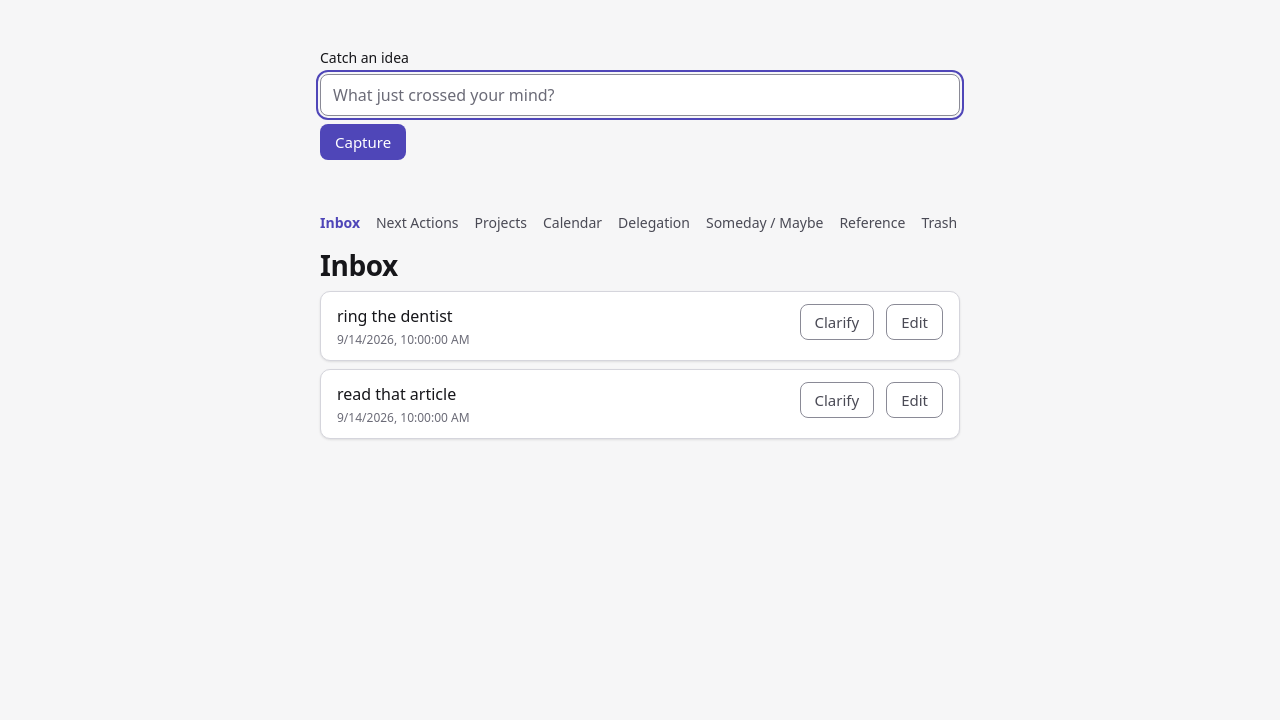
clarifying from the Inbox › removes the item from the list once it has landed in its bucket
The image size is (1280, 720).
Expected: the text "ring the dentist" is shown, x1=337 y1=305 x2=453 y2=327
The SECOND row, so removing by index would take the wrong item.
Click the button "Clarify" in the row of "read that article" at (837,400), box x1=800 y1=382 x2=874 y2=418
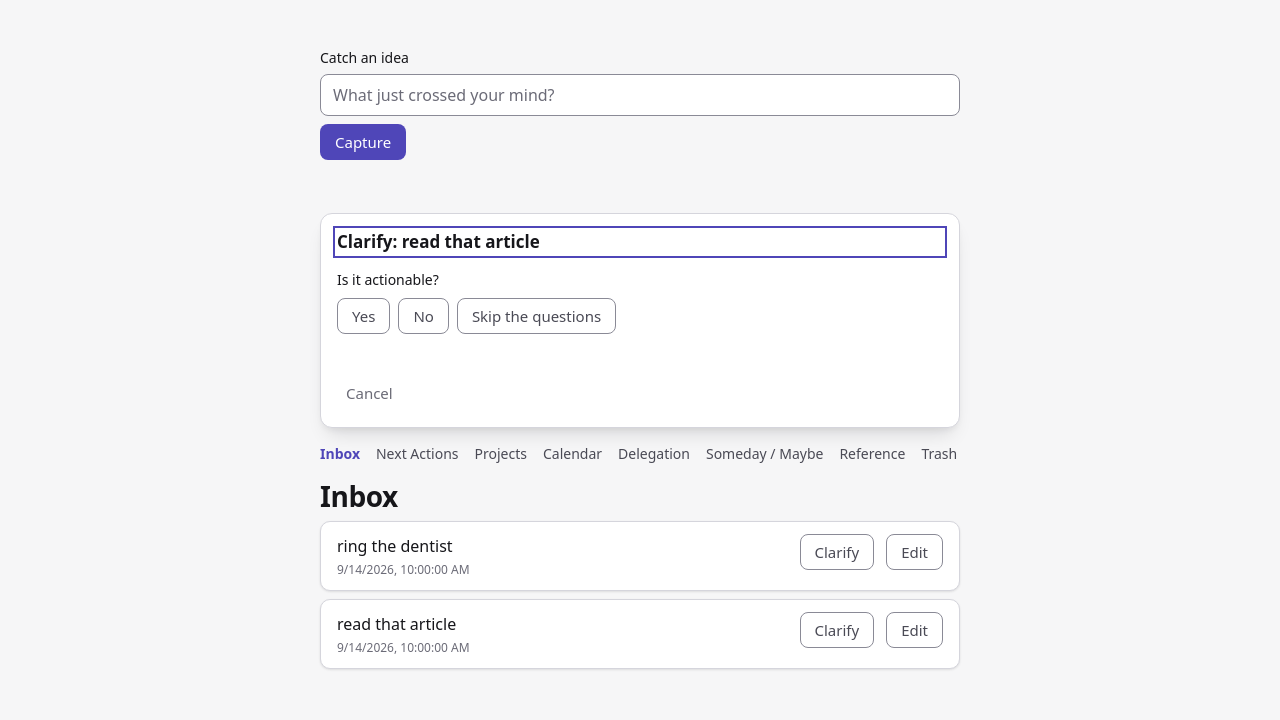
Click the button "Yes" at (364,316), box x1=337 y1=298 x2=390 y2=334
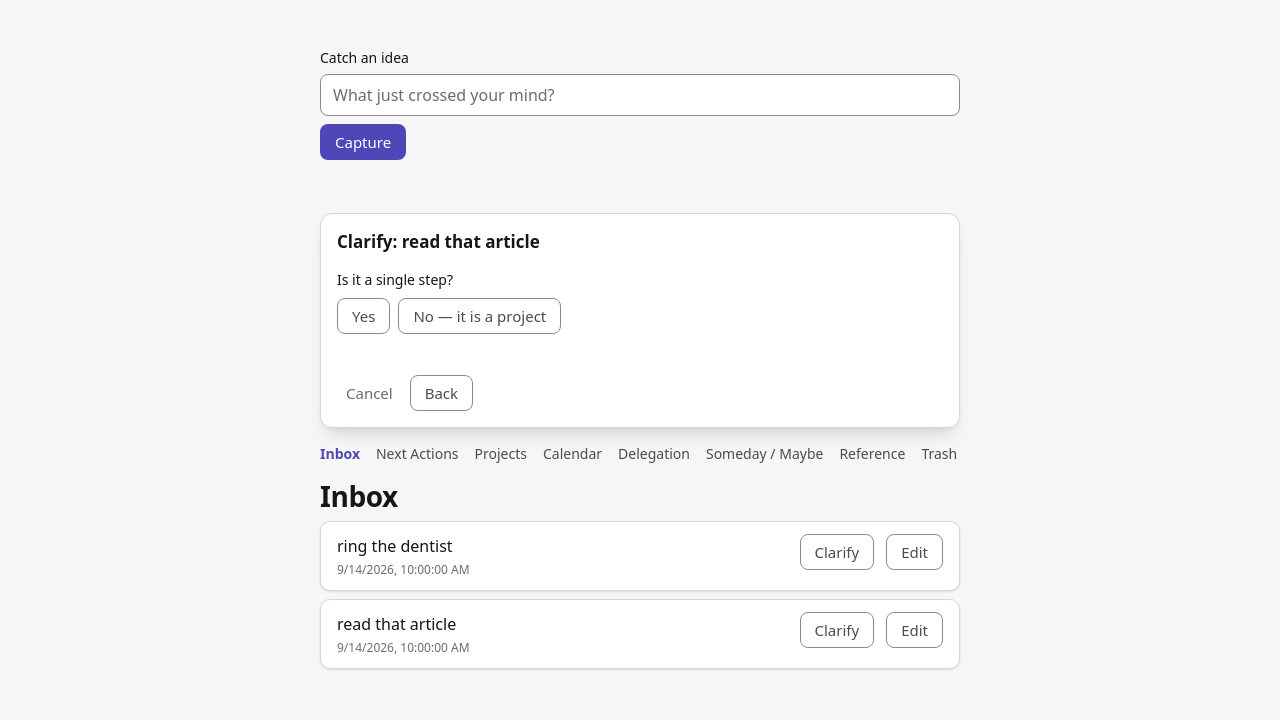
Click the button "Yes" at (364,316), box x1=337 y1=298 x2=390 y2=334
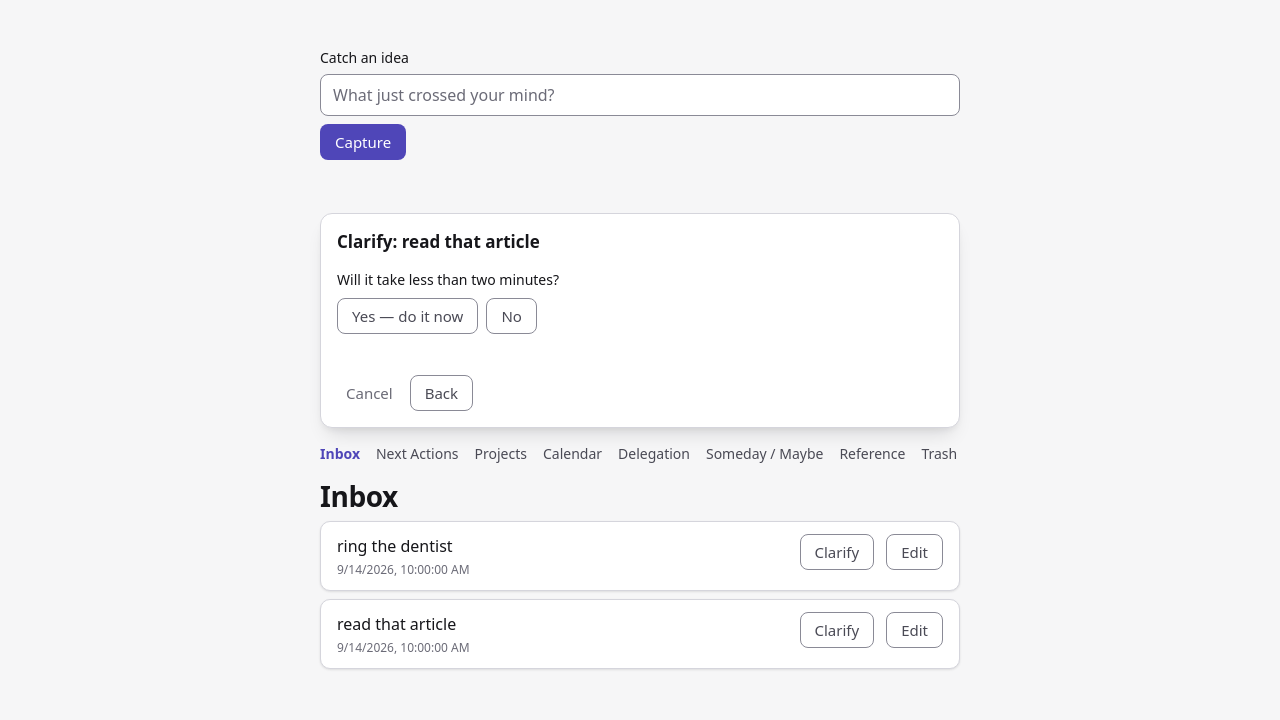
Click the button "No" at (512,316), box x1=486 y1=298 x2=537 y2=334
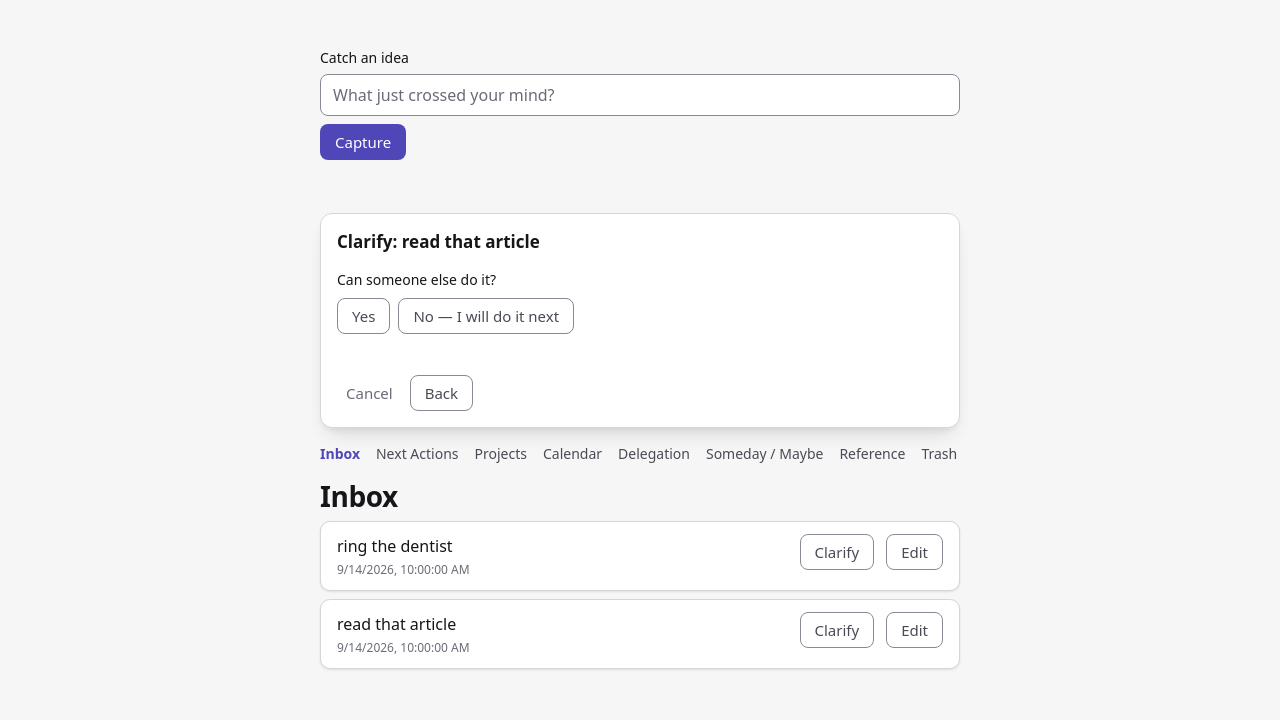
Click the button "No — I will do it next" at (486,316), box x1=398 y1=298 x2=574 y2=334
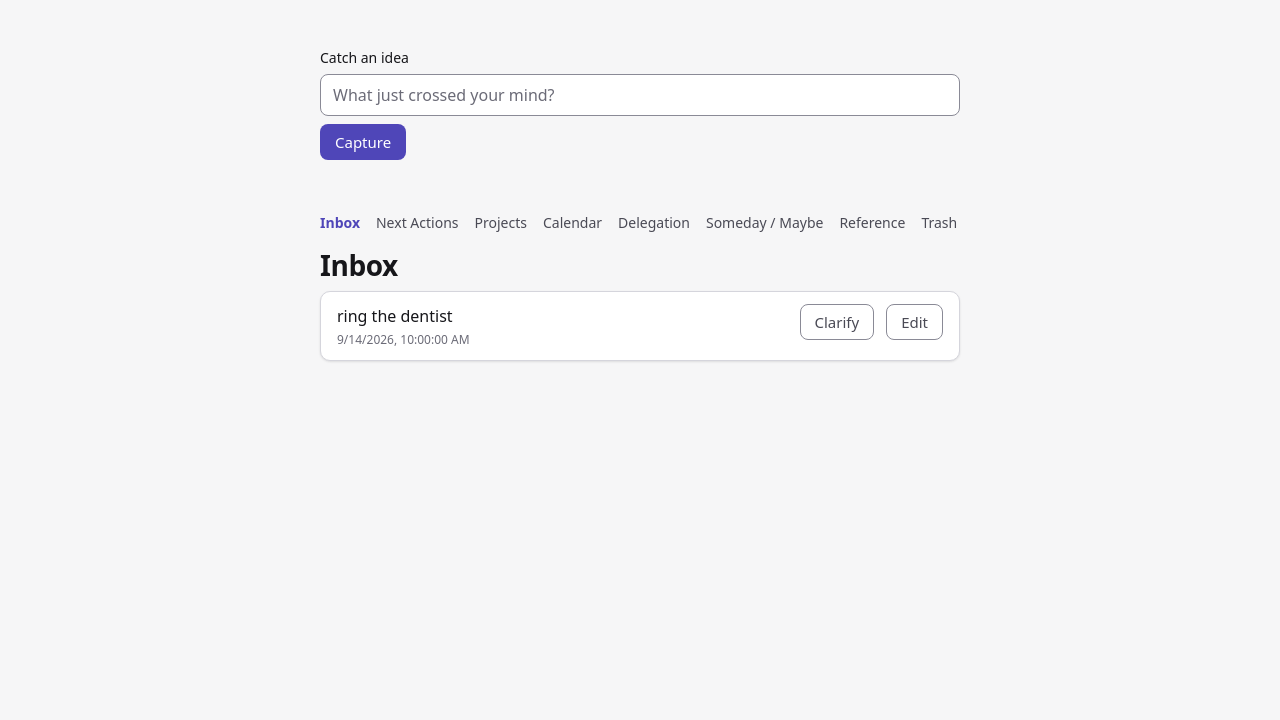
Expected: the text "ring the dentist" is shown, x1=337 y1=305 x2=453 y2=327
Expected: the heading "read that article" is gone
